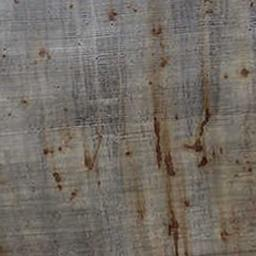rust: (150, 106, 210, 256)
